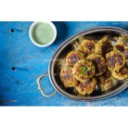cutlet: (73, 59, 94, 79), (100, 35, 120, 54), (105, 50, 124, 69), (79, 78, 97, 96), (79, 40, 98, 56), (89, 54, 103, 75), (62, 67, 77, 86)
